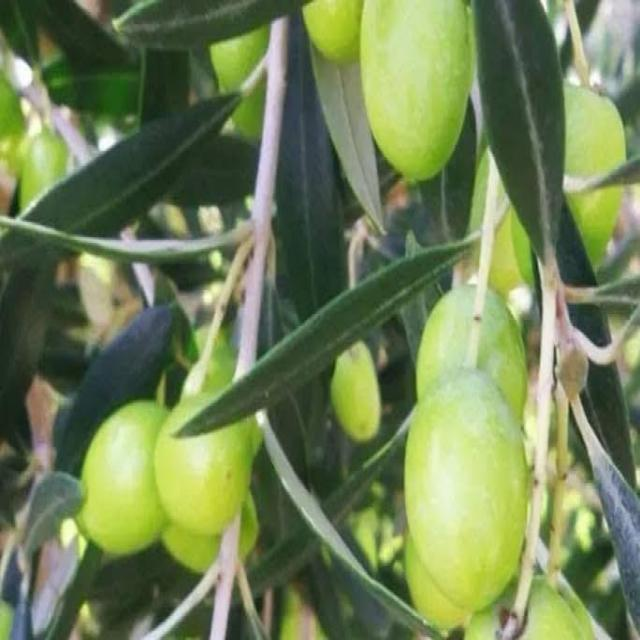Healthy: (178, 243, 464, 436), (405, 368, 528, 616), (22, 97, 239, 232), (359, 0, 473, 181)
